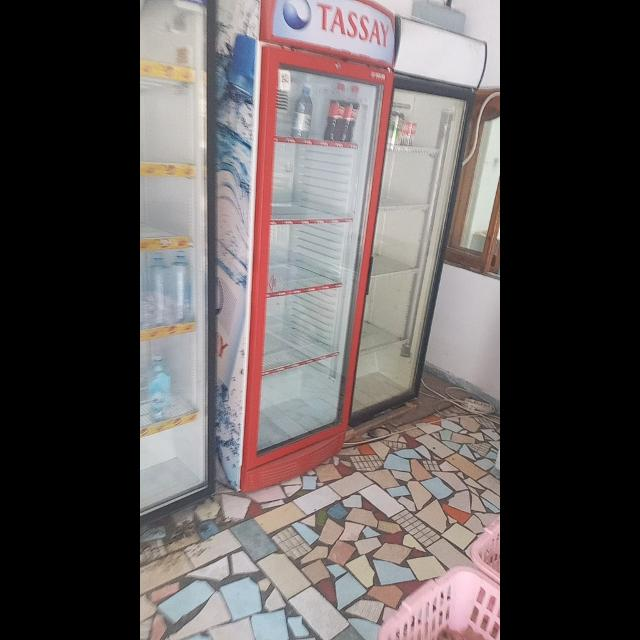Cooling-Display: (240, 1, 394, 492)
